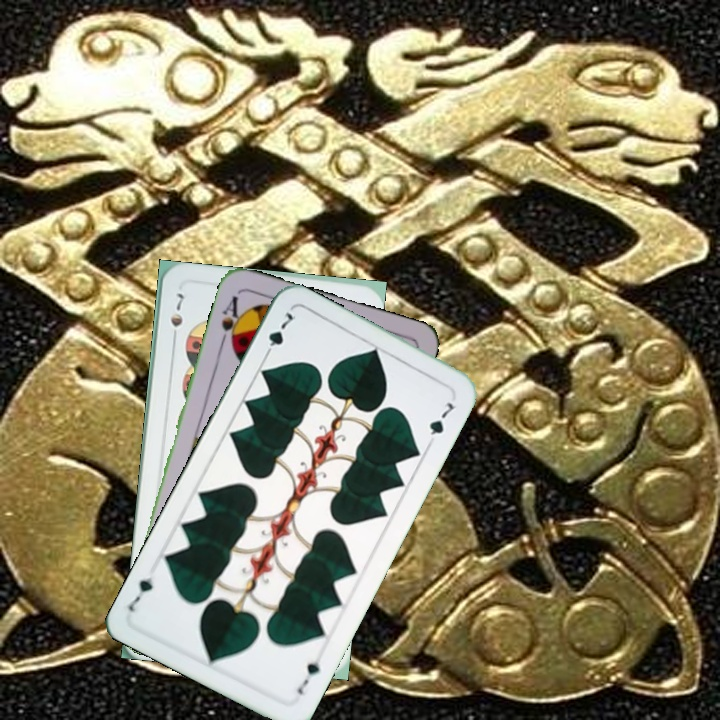G7: (259, 308, 300, 361), (292, 649, 325, 698)
S7: (166, 289, 187, 345)
SA: (216, 291, 246, 351)
